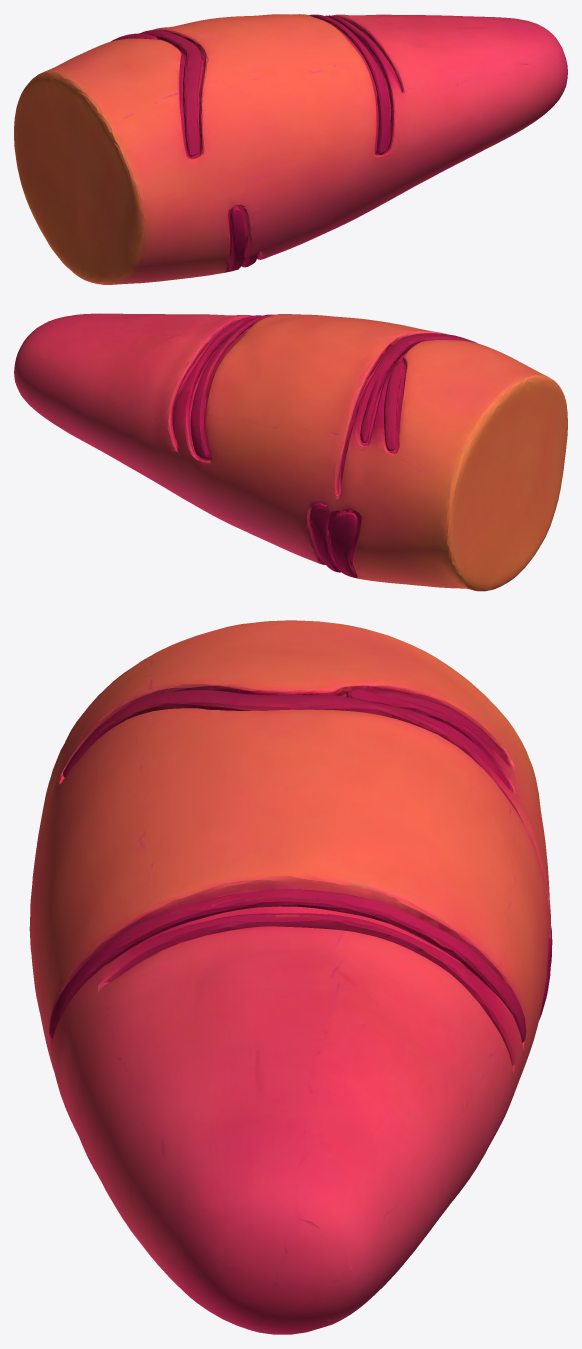
File: sweet-potato.glb
The picture shows the model from 3 angles, top to bottom: view 1: azimuth 30°, elevation 25°; view 2: azimuth 150°, elevation 25°; view 3: azimuth 270°, elevation 25°; orthographic projection. The views are drawn at different scales.
Parts seen in each view (by area): view 1: Mesh; view 2: Mesh; view 3: Mesh.
Boxes of the visible parts, x1,y1,x2,y2 form: Mesh: (14, 14, 567, 284); Mesh: (14, 313, 567, 591); Mesh: (29, 620, 552, 1334).
Size of the model in its own units: 1 by 0.4312 by 0.4671.
Materials: 1 (1 with a texture image).
